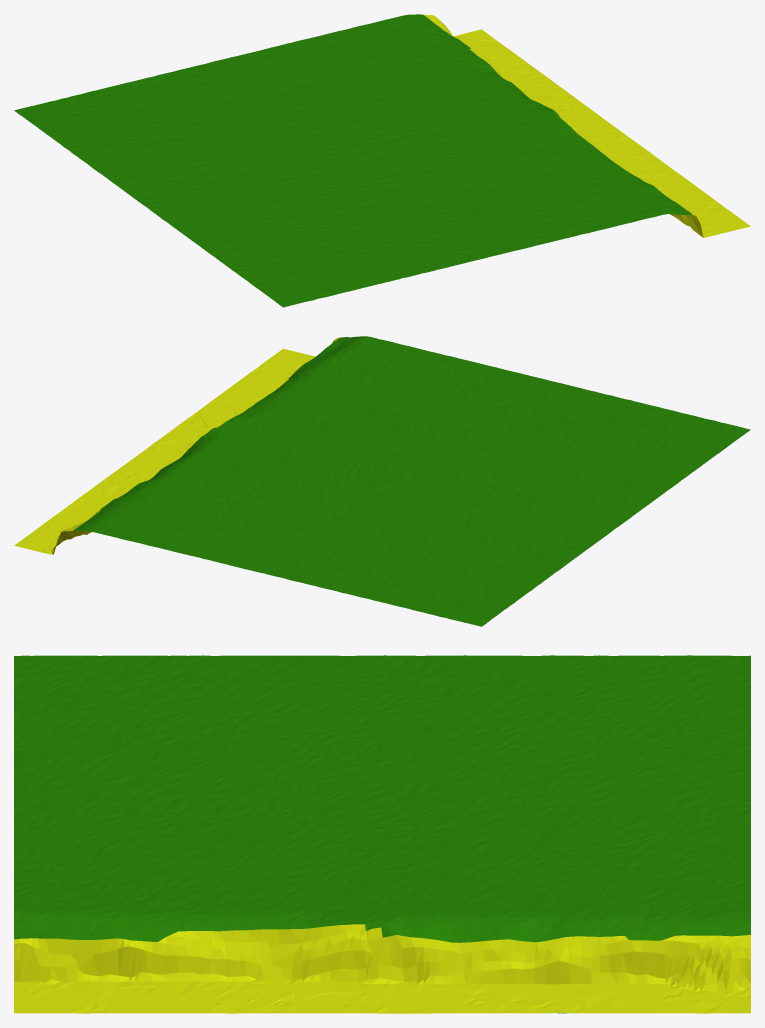
3 renders of one model, top to bottom at view 1: azimuth 30°, elevation 25°; view 2: azimuth 150°, elevation 25°; view 3: azimuth 270°, elevation 25°, orthographic. The views are drawn at different scales.
Visible parts, largest first — view 1: TerrainVeryHigh.010; view 2: TerrainVeryHigh.010; view 3: TerrainVeryHigh.010.
Boxes of the visible parts, x1=… form: TerrainVeryHigh.010: x1=14, y1=14, x2=750, y2=307; TerrainVeryHigh.010: x1=14, y1=336, x2=750, y2=626; TerrainVeryHigh.010: x1=14, y1=655, x2=750, y2=1013.
Size of the model in its own units: 1253 by 1249 by 86.37.
